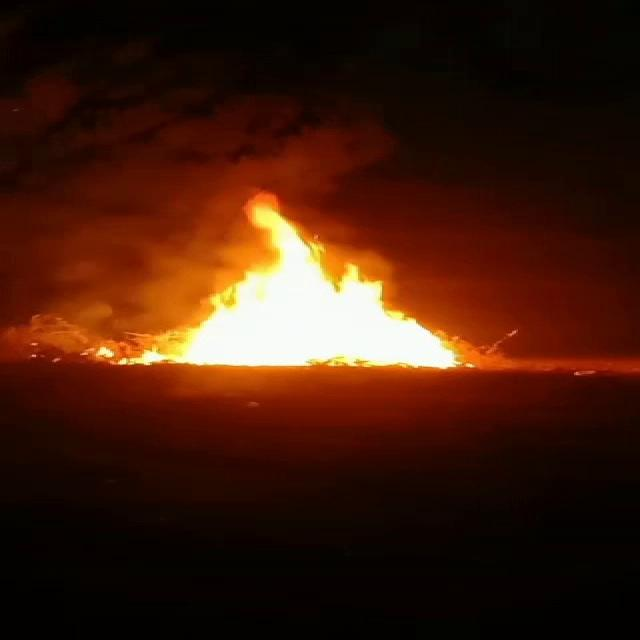Fire: (132, 195, 464, 369)
